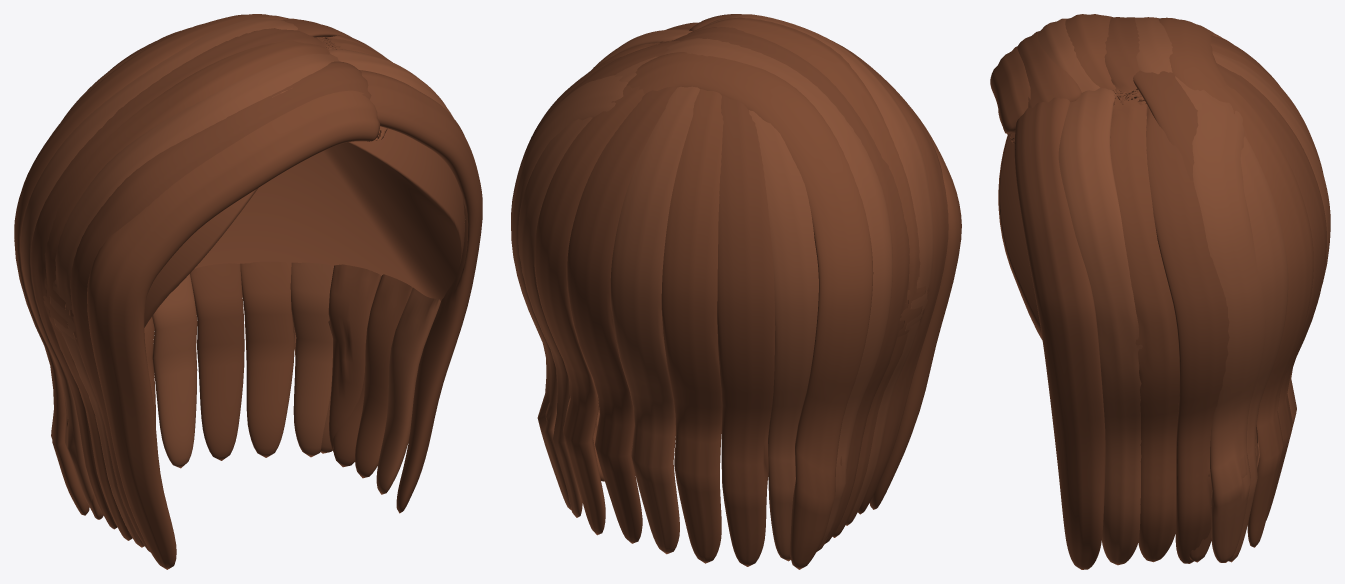
The model's file is Feminine-straight-open-pashmina250-hair.glb.
The picture shows the model from 3 angles, left to right: view 1: azimuth 30°, elevation 25°; view 2: azimuth 150°, elevation 25°; view 3: azimuth 270°, elevation 25°; orthographic projection. The views are drawn at different scales.
Parts seen in each view (by area): view 1: 226 hair / Hair / sculpted 0.002, 226 hair / Hair / sculpted 1.004, 226 hair / Hair / sculpted 2.002, 226 hair / Hair / sculpted 1.003; view 2: 226 hair / Hair / sculpted 0.002, 226 hair / Hair / sculpted 2.002, 226 hair / Hair / sculpted 1.004; view 3: 226 hair / Hair / sculpted 1.004, 226 hair / Hair / sculpted 2.002, 226 hair / Hair / sculpted 0.002, 226 hair / Hair / sculpted 1.003.
Boxes of the visible parts, <box> form: 226 hair / Hair / sculpted 0.002: <box>14,14,412,569</box>; 226 hair / Hair / sculpted 1.004: <box>30,19,482,552</box>; 226 hair / Hair / sculpted 2.002: <box>20,18,465,547</box>; 226 hair / Hair / sculpted 1.003: <box>144,128,464,327</box>; 226 hair / Hair / sculpted 0.002: <box>534,17,961,569</box>; 226 hair / Hair / sculpted 2.002: <box>511,14,933,561</box>; 226 hair / Hair / sculpted 1.004: <box>511,14,948,566</box>; 226 hair / Hair / sculpted 1.004: <box>1014,17,1326,569</box>; 226 hair / Hair / sculpted 2.002: <box>1036,17,1330,565</box>; 226 hair / Hair / sculpted 0.002: <box>990,14,1322,562</box>; 226 hair / Hair / sculpted 1.003: <box>998,110,1042,340</box>.
Size of the model in its own units: 1 by 1.18 by 0.7659.
